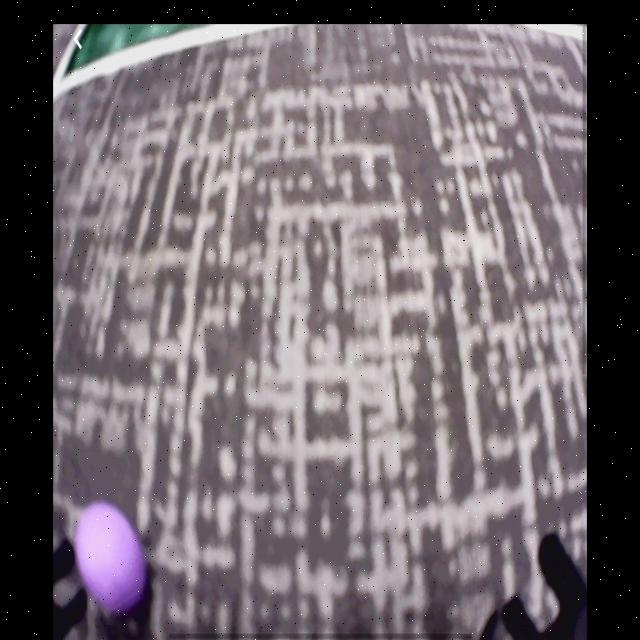ball: (73, 502, 147, 618)
